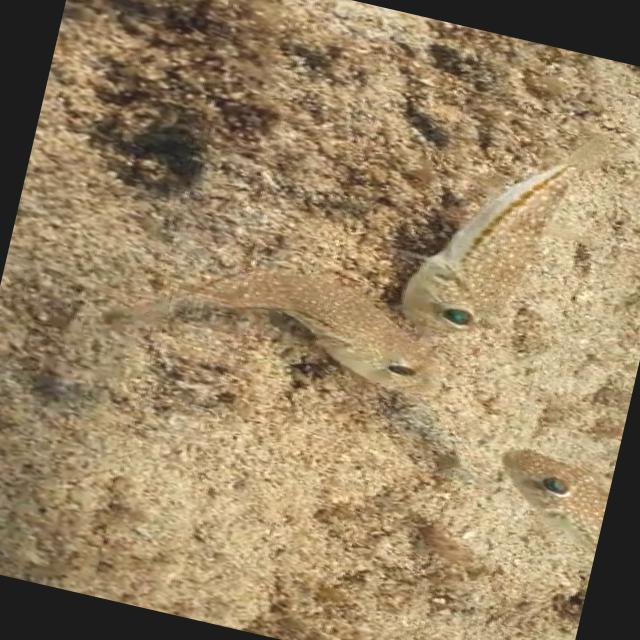Balon Baligi: (62, 223, 468, 415), (394, 100, 640, 366), (482, 436, 616, 572)
